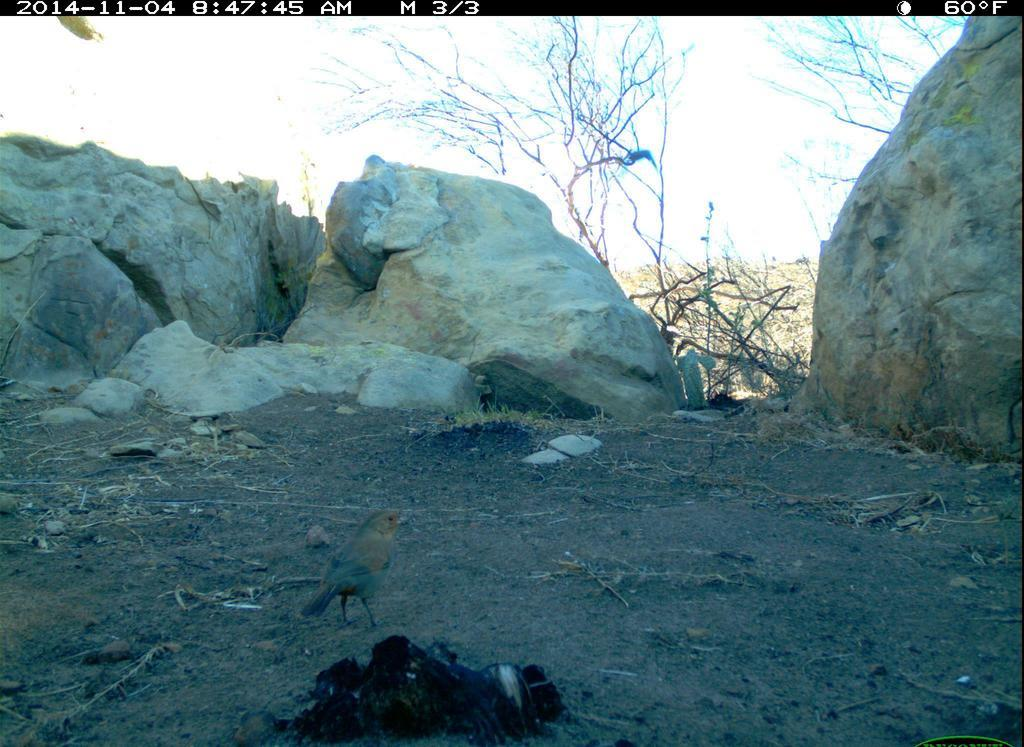bird: (296, 500, 415, 635)
